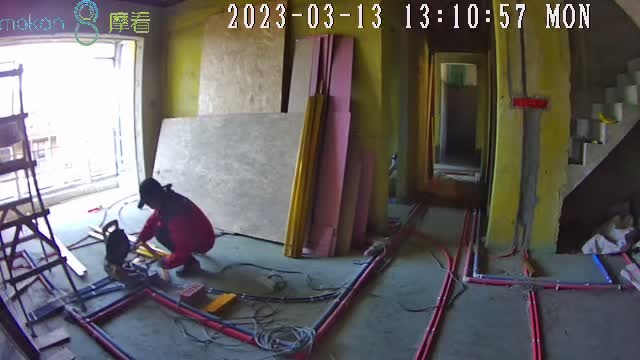people: (137, 177, 215, 276)
window: (1, 44, 133, 201)
